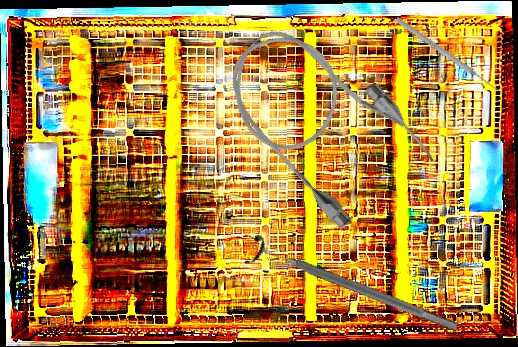Cannula: (205, 1, 442, 240)
Fixation Ring: (244, 232, 463, 344)
Pusher: (394, 15, 501, 95)
